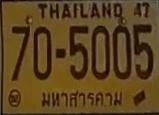0: (32, 26, 51, 79), (91, 25, 109, 79), (113, 25, 130, 78)
5: (132, 23, 152, 79), (69, 25, 88, 79)
7: (11, 25, 29, 78)
MKM: (37, 87, 124, 110)
